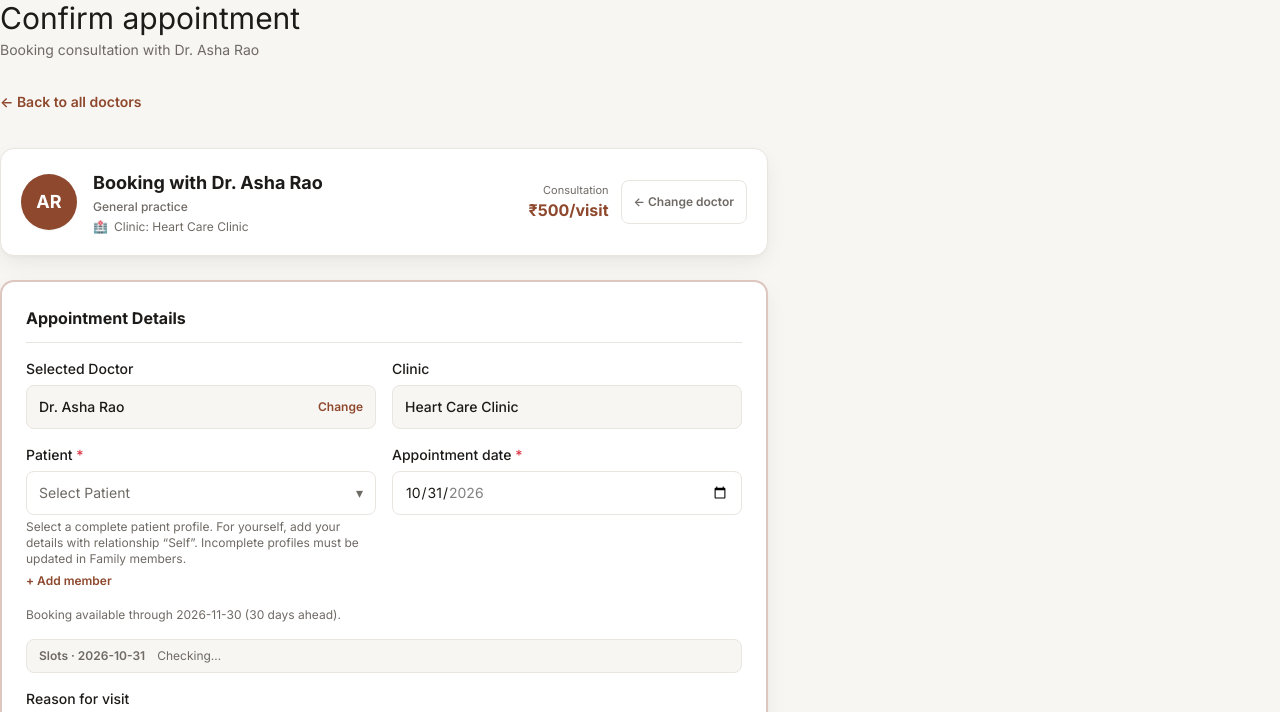
Scenario: Booking › adds a family member during booking and selects the new patient
The width and height of the screenshot is (1280, 712).
Click the button "+ Add member" at (69, 581), box [26,573,112,589]
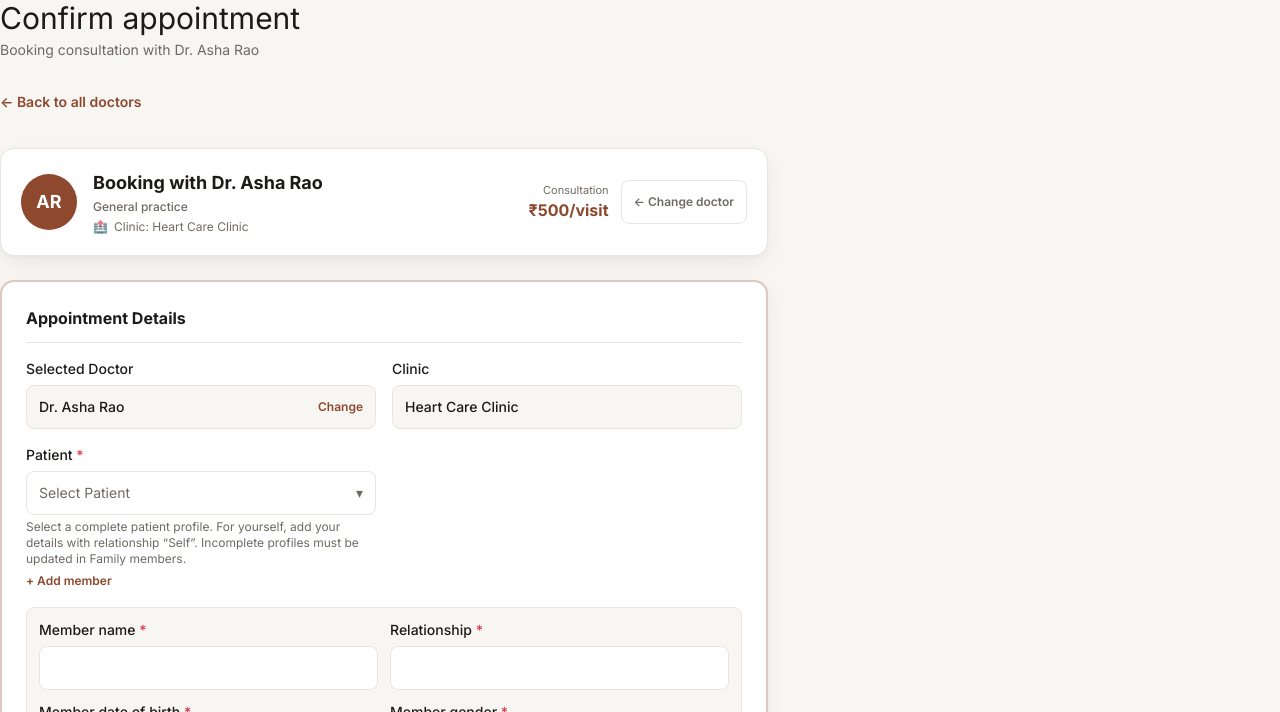
Type "Rohan" into the field labelled "Member name *" at (208, 668), box [39,646,378,690]
Type "Son" into the field labelled "Relationship *" at (560, 668), box [390,646,729,690]
(page scrolled)
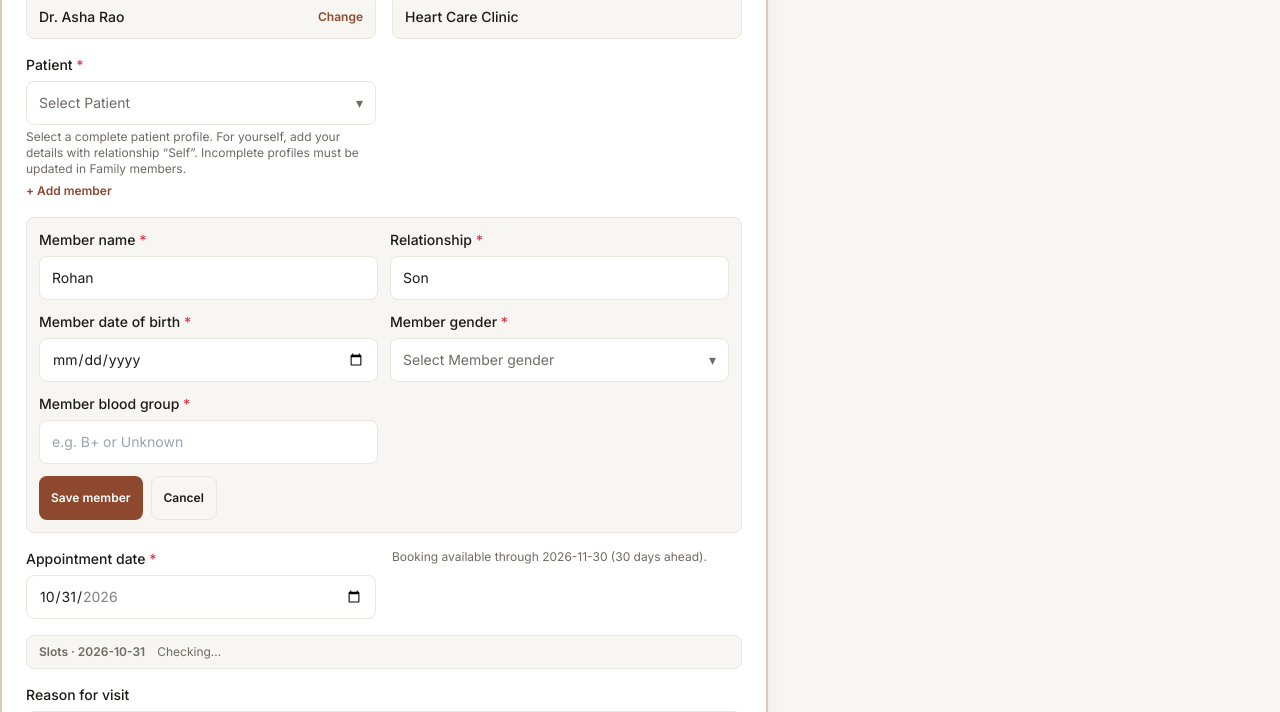
Type "2010-05-01" into the date field labelled "Member date of birth *" at (208, 360), box [39,338,378,382]
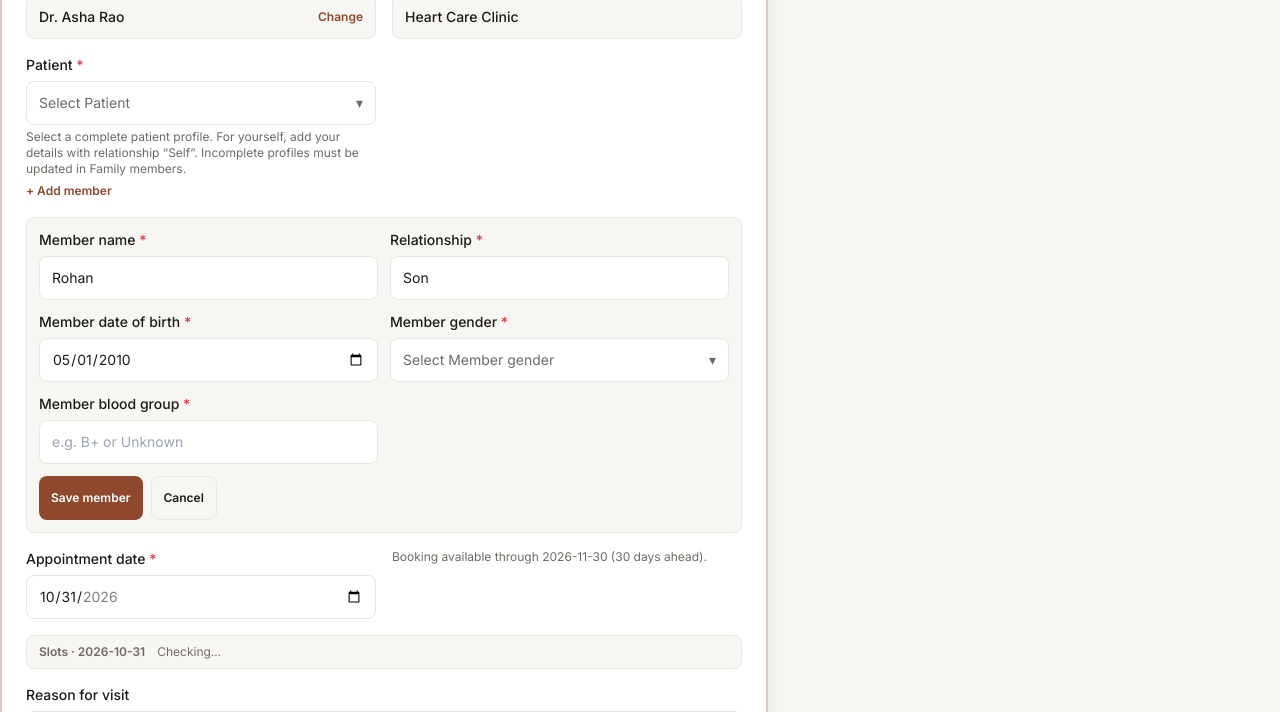
Select "Male" in the dropdown labelled "Member gender * Select Member gender ▾" at (560, 347), box [390,312,729,382]
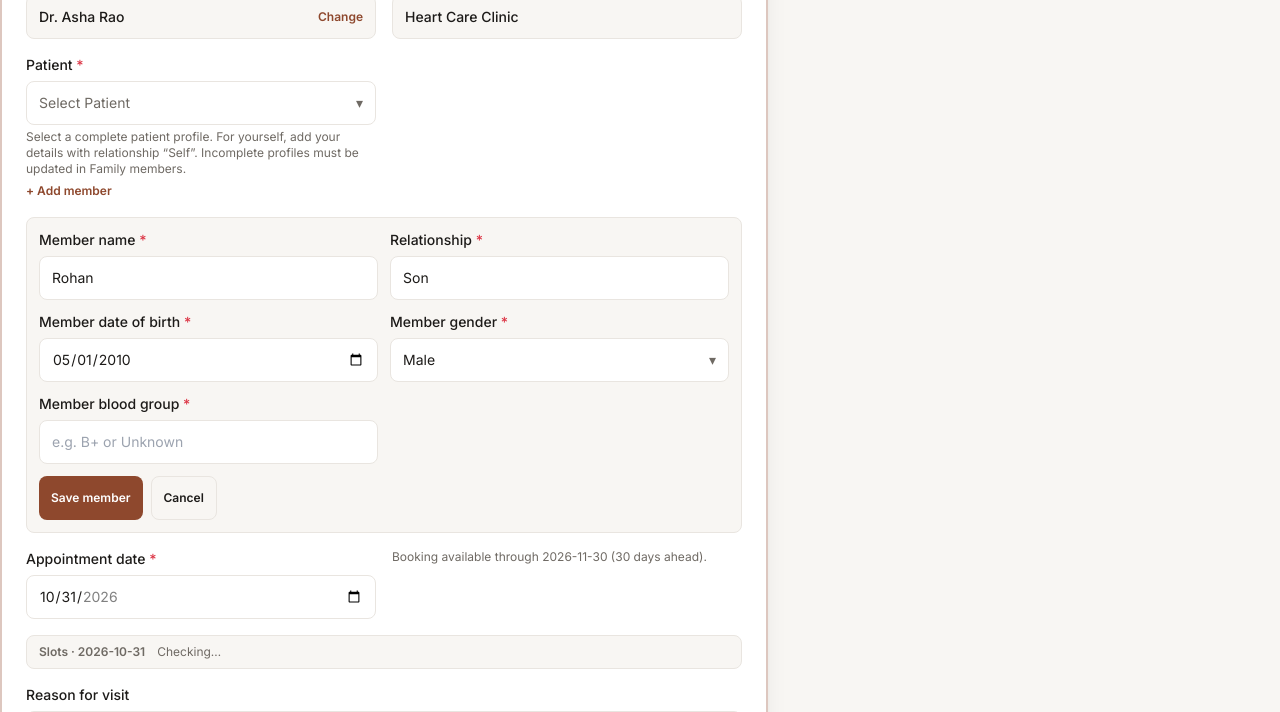
Type "B+" into the field labelled "Member blood group *" at (208, 442), box [39,420,378,464]
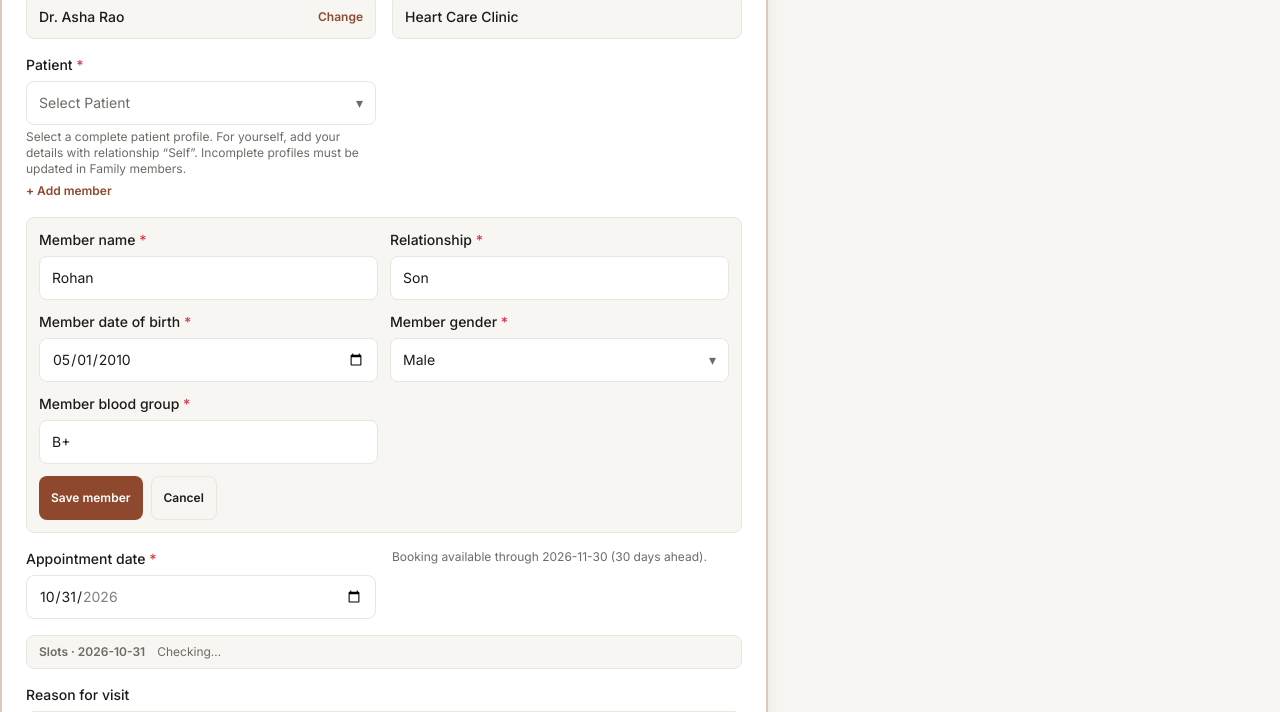
Click the button "Save member" at (91, 498), box [39,476,142,520]
(page scrolled)
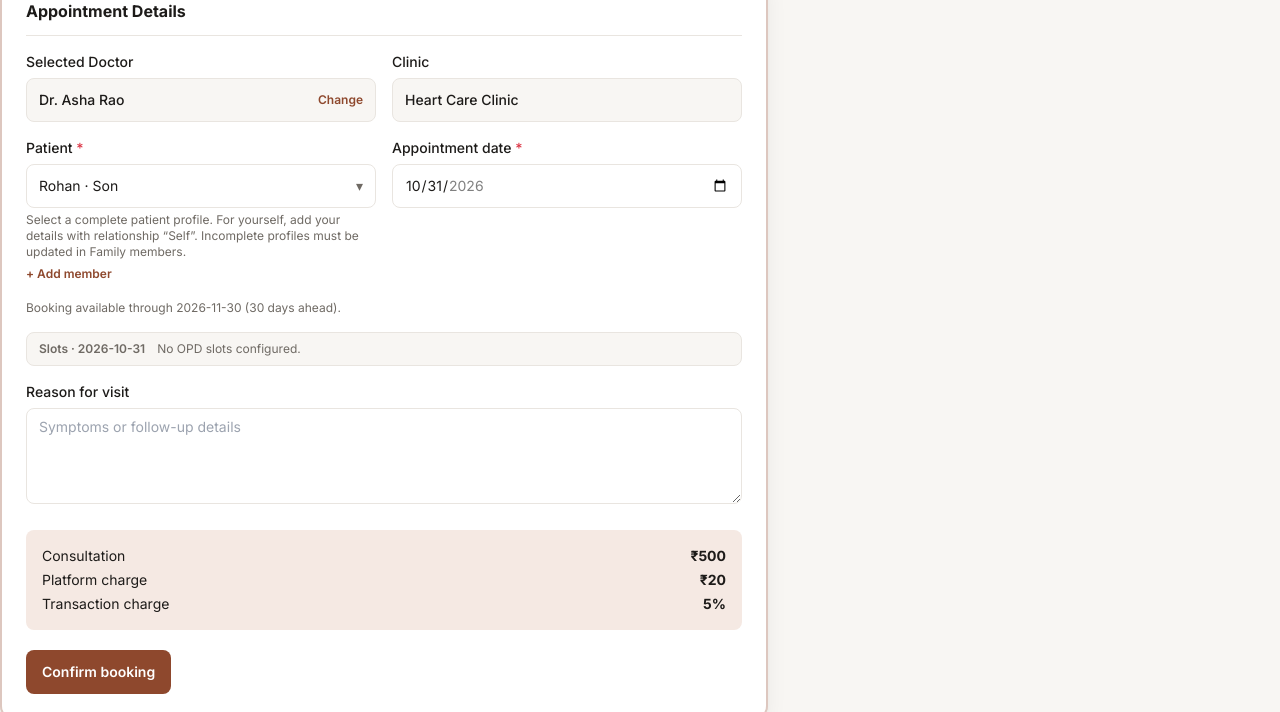
Expected: the label labelled "Patient * Rohan · Son ▾" holds "fam-new", [26,138,376,208]
Expected: the field labelled "Member name" is gone
